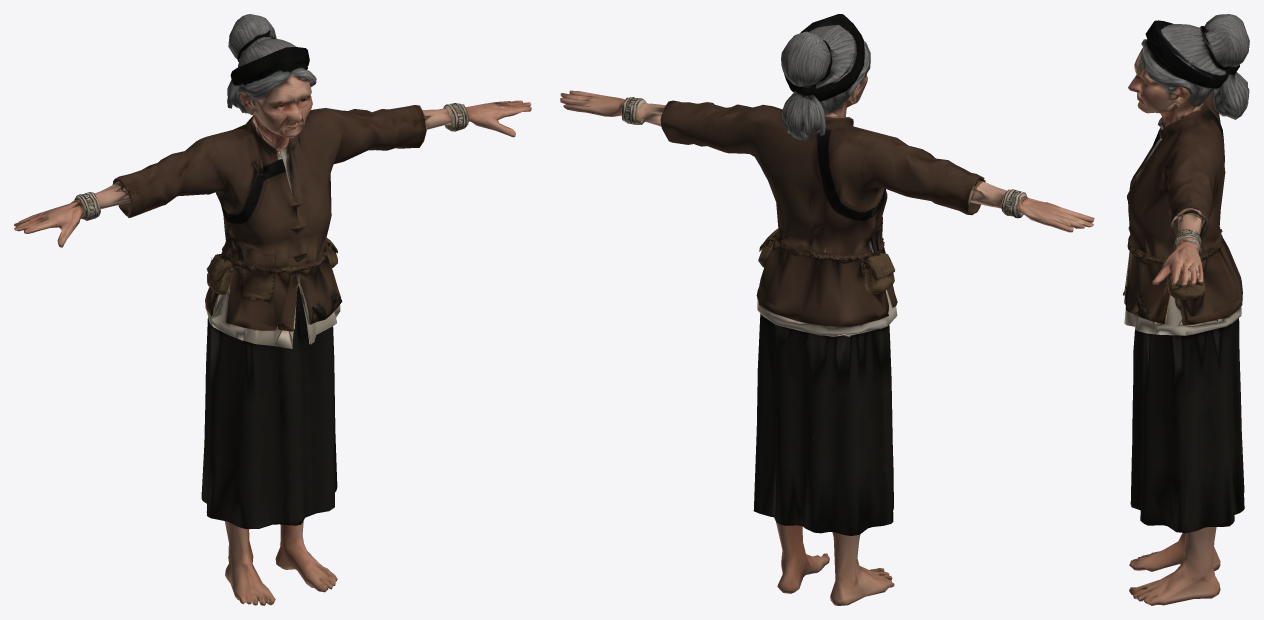
Rendered from ba-lao.glb.
3 views of the same model, side by side, from view 1: azimuth 30°, elevation 25°; view 2: azimuth 150°, elevation 25°; view 3: azimuth 270°, elevation 25° (orthographic). The views are drawn at different scales.
Parts seen in each view (by area): view 1: tripo_node_457985e4-c40c-4a2e-aa2a-b6b30ba0b531; view 2: tripo_node_457985e4-c40c-4a2e-aa2a-b6b30ba0b531; view 3: tripo_node_457985e4-c40c-4a2e-aa2a-b6b30ba0b531.
Part boxes in pixels (box(x1,y1,x2,y2)): tripo_node_457985e4-c40c-4a2e-aa2a-b6b30ba0b531: box(14, 14, 531, 605); tripo_node_457985e4-c40c-4a2e-aa2a-b6b30ba0b531: box(560, 14, 1094, 605); tripo_node_457985e4-c40c-4a2e-aa2a-b6b30ba0b531: box(1123, 14, 1249, 605).
Bounding box in the file's own units: 0.956 × 0.9782 × 0.1977.
Materials: 1 (1 with a texture image).
